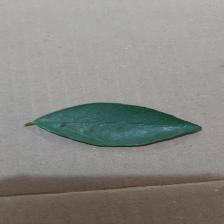healthy: (28, 99, 200, 158)
